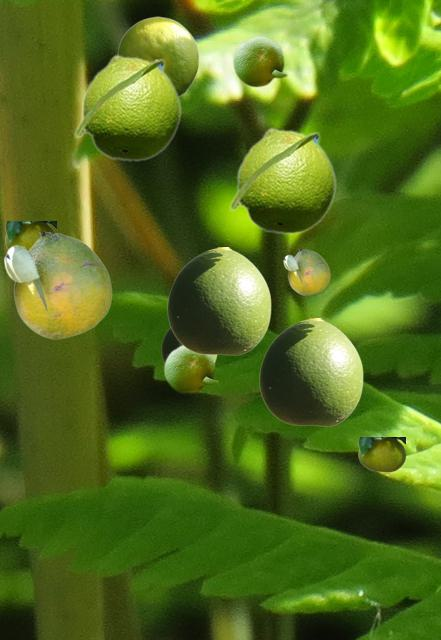dalandan: (228, 127, 336, 234), (73, 54, 181, 161), (3, 232, 111, 338), (259, 318, 362, 425), (167, 247, 270, 354), (117, 16, 198, 96), (232, 35, 287, 86), (163, 345, 218, 393), (283, 249, 329, 294), (161, 328, 216, 362), (358, 437, 404, 471), (5, 221, 55, 249)
